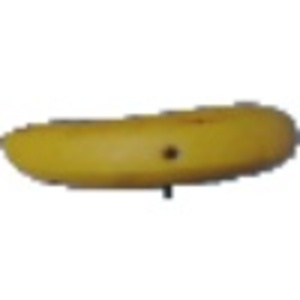banana: (2, 97, 299, 192)
